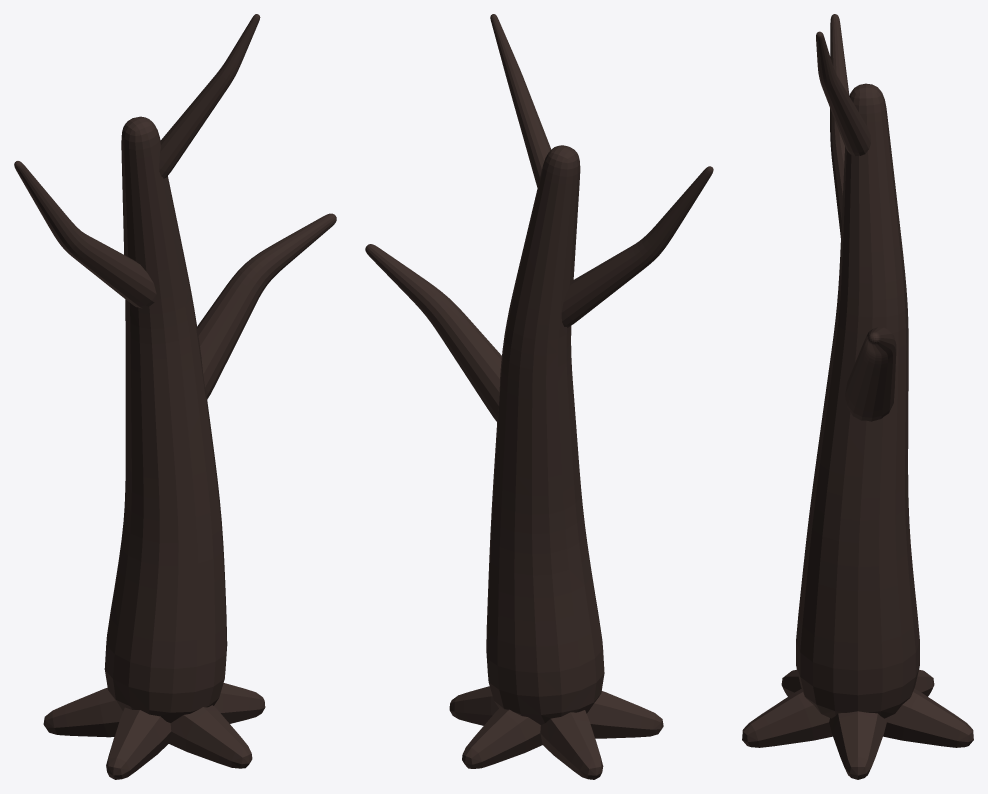
File: DeadTree.fbx
3 views of the same model, side by side, from view 1: azimuth 30°, elevation 25°; view 2: azimuth 150°, elevation 25°; view 3: azimuth 270°, elevation 25° (orthographic). The views are drawn at different scales.
Parts seen in each view (by area): view 1: DeadTree; view 2: DeadTree; view 3: DeadTree.
Boxes of the visible parts, left/top/right/bottom form: DeadTree: left=14, top=14, right=336, bottom=779; DeadTree: left=365, top=14, right=713, bottom=779; DeadTree: left=742, top=14, right=973, bottom=779.
Size of the model in its own units: 5.21 by 10.52 by 2.99.
Materials: 1 (1 with a texture image).
